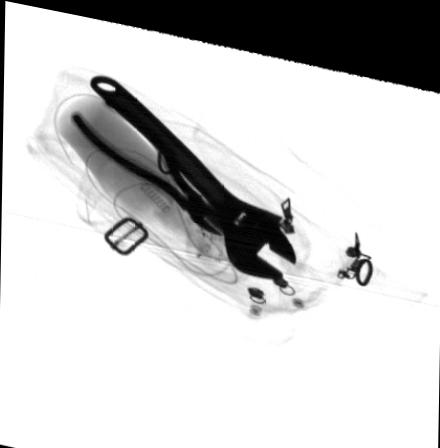Pliers: (70, 92, 231, 228)
Wrench: (89, 69, 295, 266)
